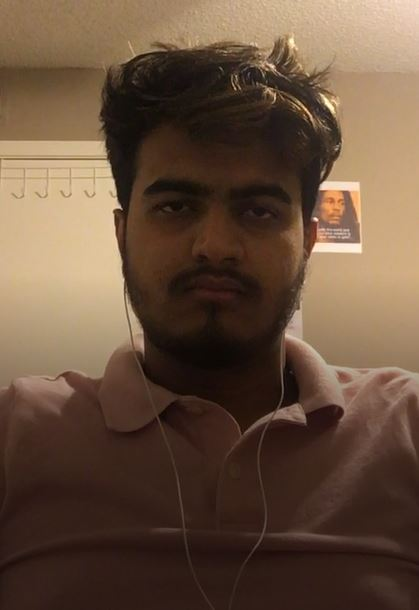Not Sleeping: (140, 179, 294, 240)
